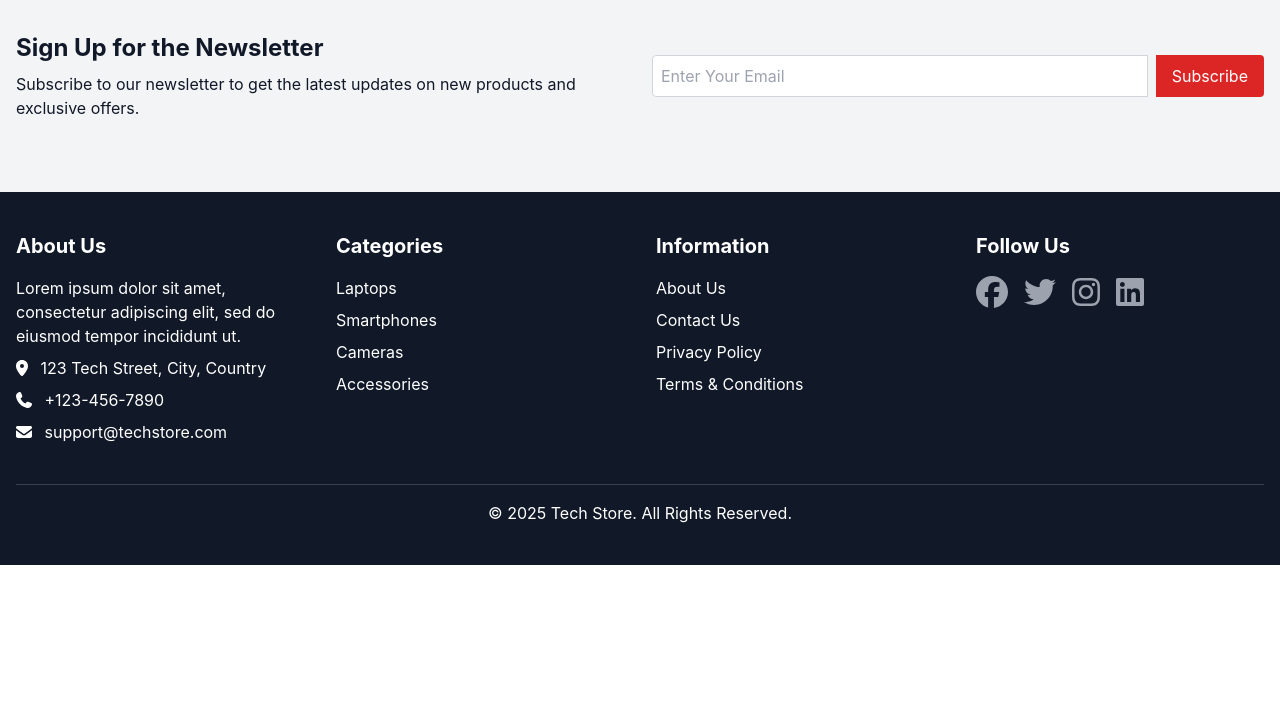
Test: Footer Component › handles newsletter subscription failure
Type "test@example.com" into the field with placeholder "Enter Your Email". click: (900, 76)
box: x1=652 y1=55 x2=1148 y2=97
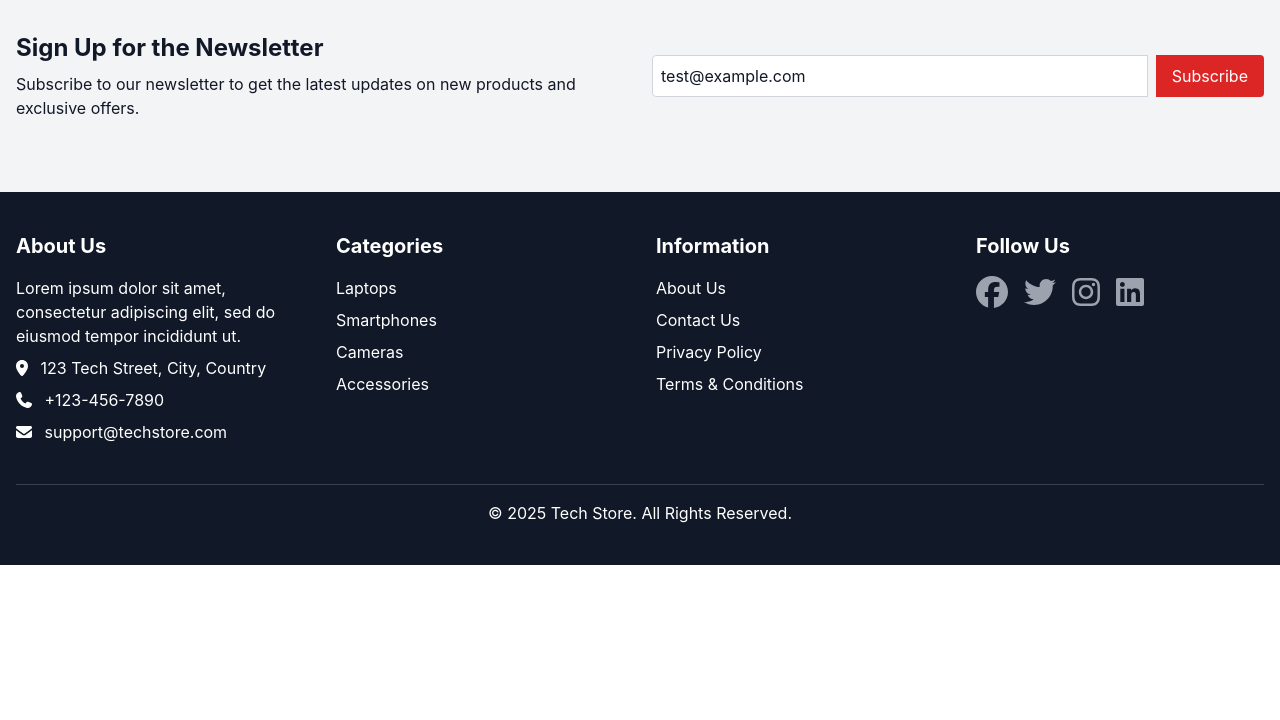
Click the button "Subscribe". click: (1210, 76)
box: x1=1156 y1=55 x2=1264 y2=97
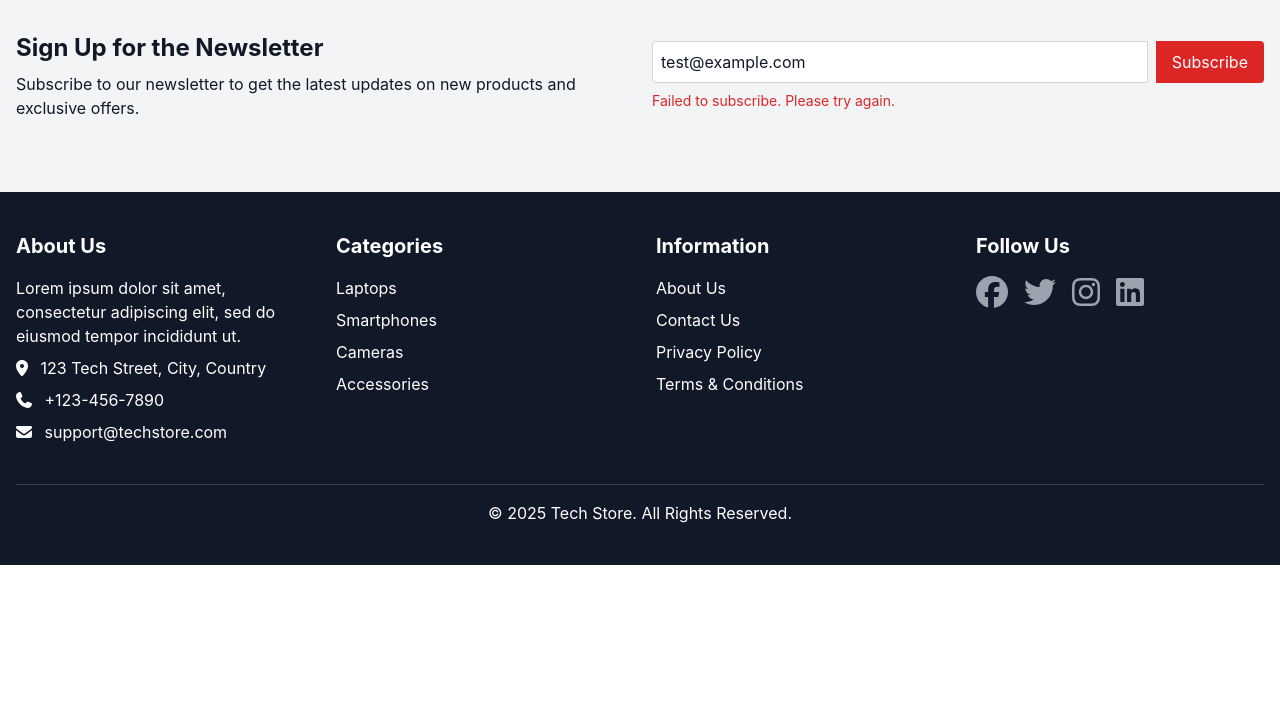
expect the text "Failed to subscribe. Please try again." is shown: met, box x1=652 y1=92 x2=895 y2=109
